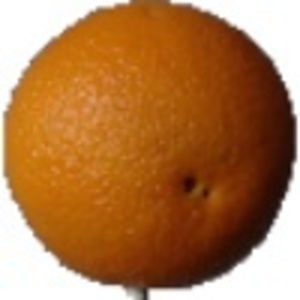laranja: (3, 4, 295, 291)
